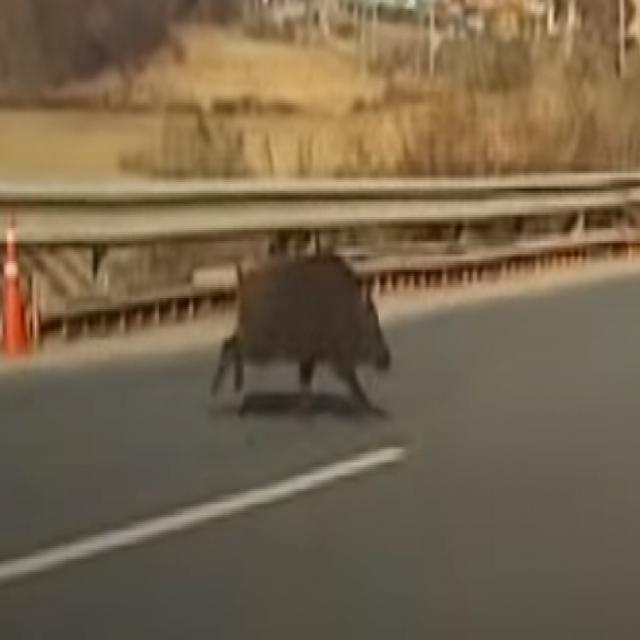boar: (196, 215, 399, 467)
